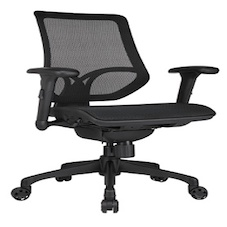chair: (10, 4, 219, 222)
